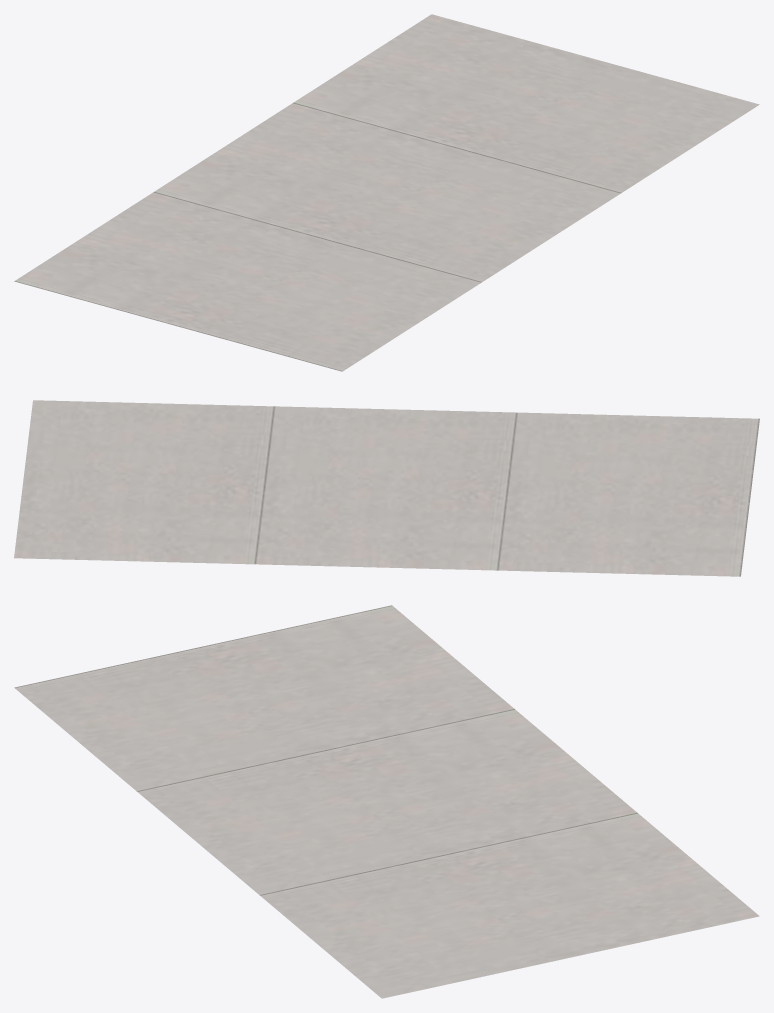
File: myFileName_1091.glb
3 renders of one model, top to bottom at view 1: azimuth 30°, elevation 25°; view 2: azimuth 150°, elevation 25°; view 3: azimuth 270°, elevation 25°, orthographic. The views are drawn at different scales.
Size of the model in its own units: 6.58 by 0.00503 by 5.28.
1 material, 1 textured.
